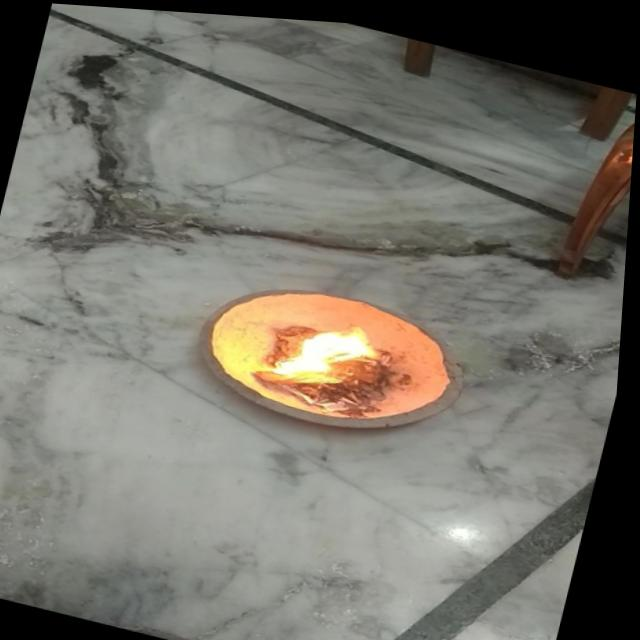fire: (268, 298, 395, 402)
